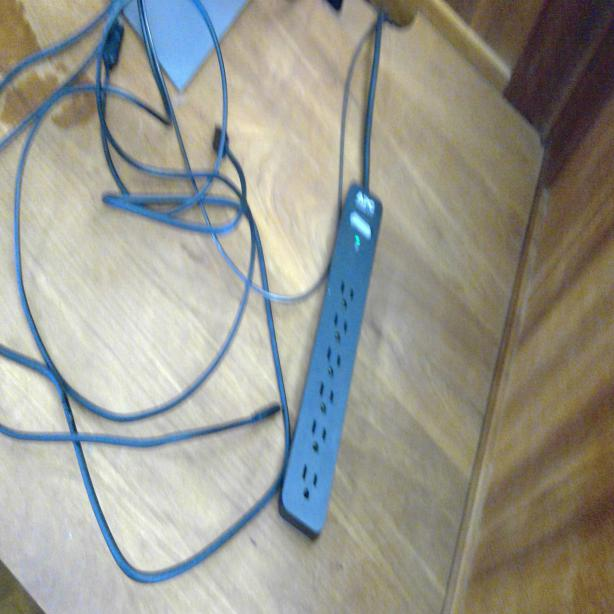typeb: (296, 458, 322, 504), (306, 416, 330, 460), (316, 380, 335, 420), (336, 274, 357, 310), (332, 310, 348, 351), (324, 346, 343, 380)
